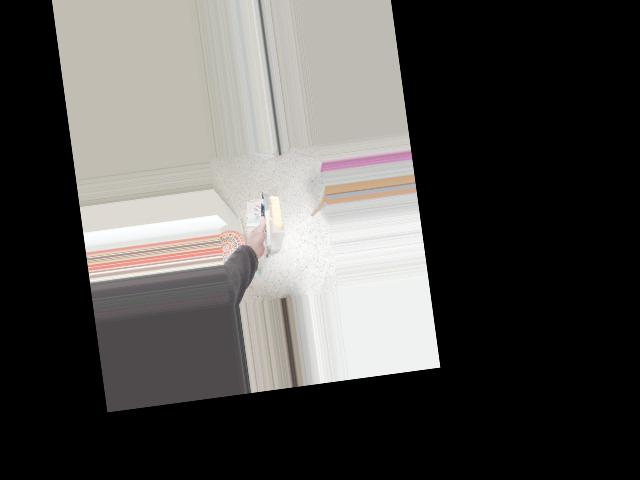cheese: (229, 194, 305, 271)
